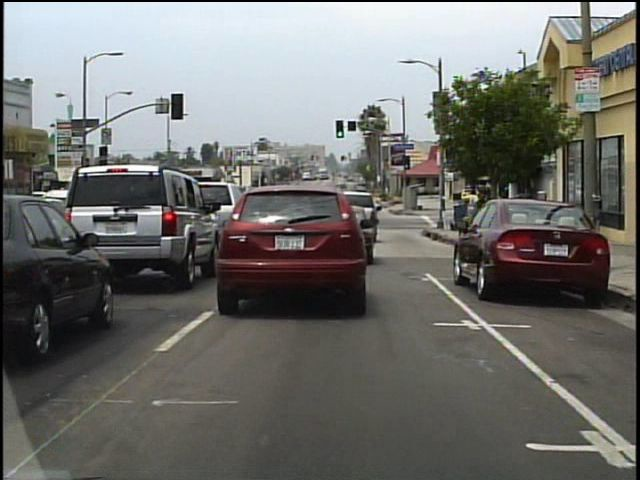person: (472, 194, 486, 243)
